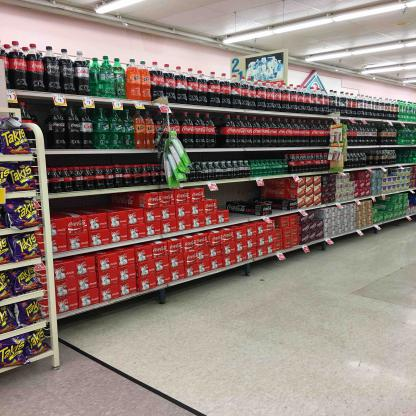Void: (49, 198, 132, 209), (230, 184, 251, 216), (274, 178, 284, 210), (250, 186, 270, 198), (219, 188, 229, 209), (374, 200, 387, 211), (352, 172, 364, 180)
